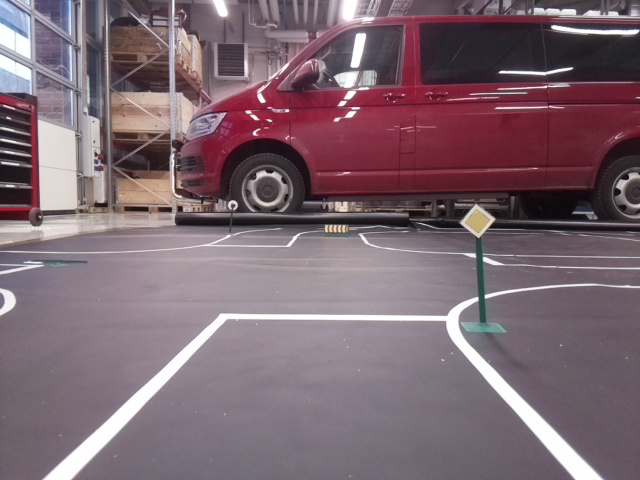Priority: (458, 203, 494, 237)
